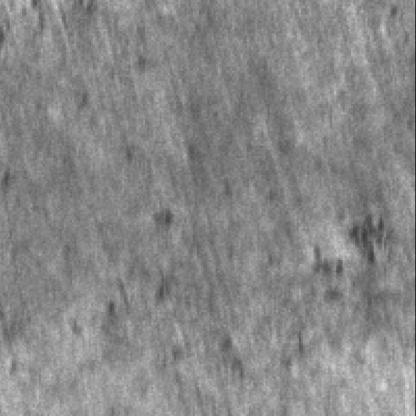rolled-in_scale: (102, 214, 241, 406), (269, 217, 397, 397)
